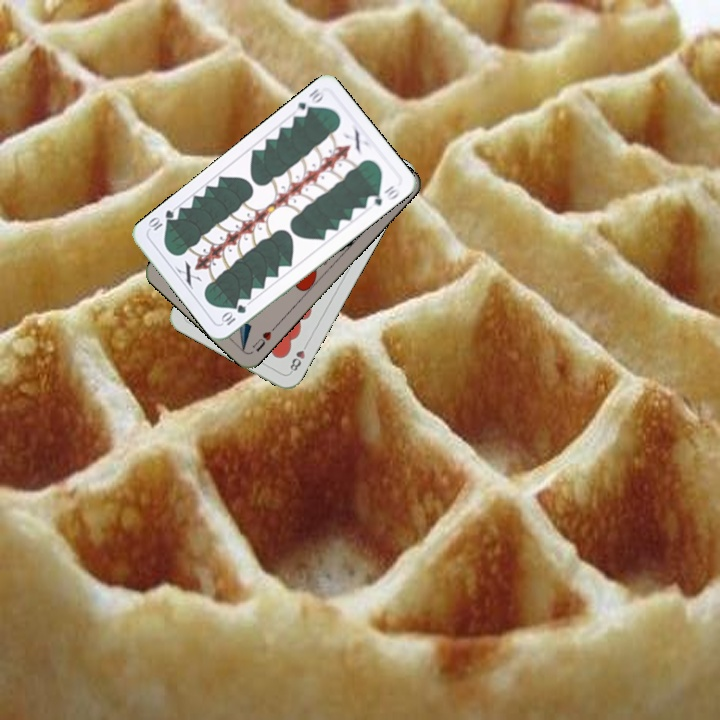G10: (290, 84, 328, 120), (217, 300, 249, 328)
H8: (286, 338, 311, 376)
HU: (248, 322, 279, 354)
